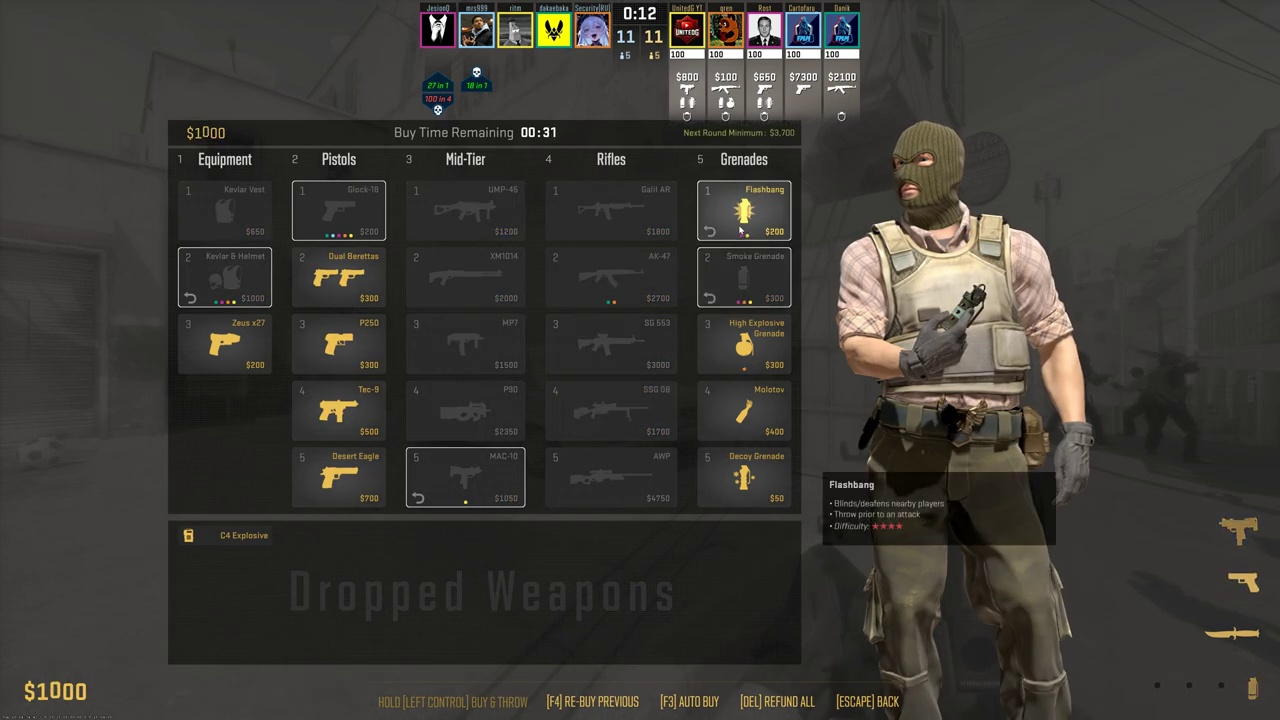Terrorist: (848, 125, 1075, 712)
